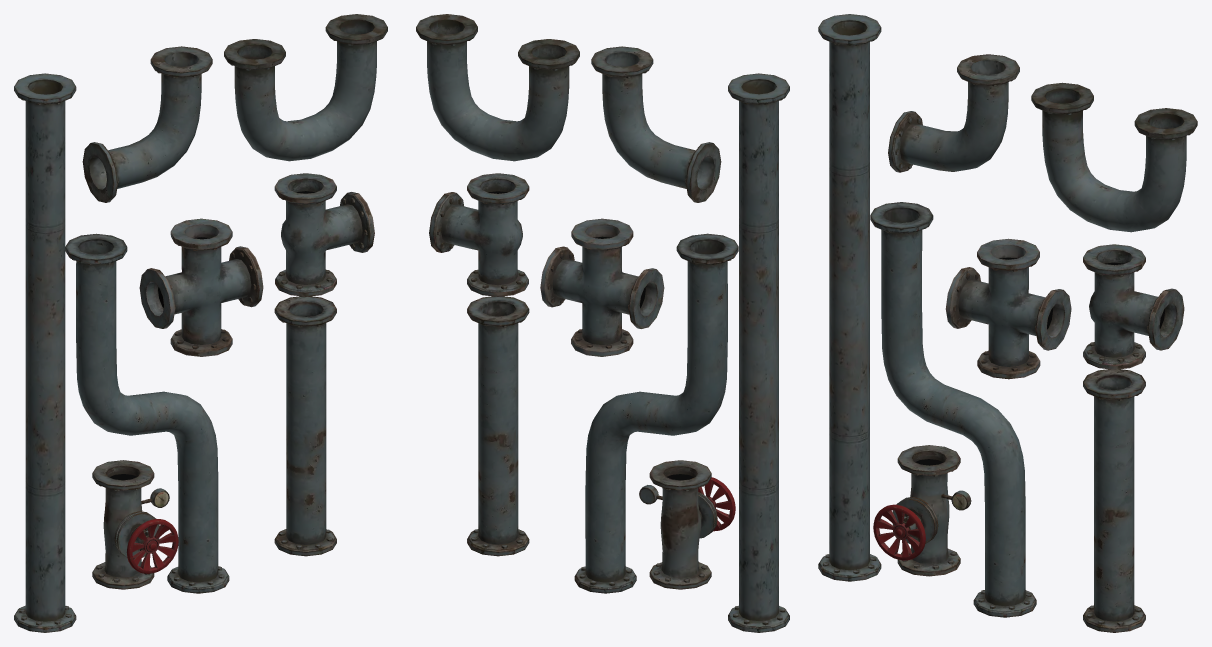
The model's file is modular_industrial_pipes_01.glb.
3 renders of one model, left to right at view 1: azimuth 30°, elevation 25°; view 2: azimuth 150°, elevation 25°; view 3: azimuth 330°, elevation 25°, orthographic.
Visible parts, largest first — view 1: modular_industrial_pipes_01_pipe02, modular_industrial_pipes_01_pipe03, modular_industrial_pipes_01_pipe05, modular_industrial_pipes_01_pipe01, modular_industrial_pipes_01_pipe07, modular_industrial_pipes_01_pipe04, modular_industrial_pipes_01_pipe06, modular_industrial_pipes_01_pipe08; view 2: modular_industrial_pipes_01_pipe02, modular_industrial_pipes_01_pipe03, modular_industrial_pipes_01_pipe05, modular_industrial_pipes_01_pipe01, modular_industrial_pipes_01_pipe07, modular_industrial_pipes_01_pipe04, modular_industrial_pipes_01_pipe06, modular_industrial_pipes_01_pipe08; view 3: modular_industrial_pipes_01_pipe02, modular_industrial_pipes_01_pipe03, modular_industrial_pipes_01_pipe05, modular_industrial_pipes_01_pipe01, modular_industrial_pipes_01_pipe07, modular_industrial_pipes_01_pipe06, modular_industrial_pipes_01_pipe04, modular_industrial_pipes_01_pipe08.
Boxes of the visible parts, box(x1,y1,x2,y2) form: modular_industrial_pipes_01_pipe02: box(14, 73, 76, 632); modular_industrial_pipes_01_pipe03: box(65, 233, 229, 593); modular_industrial_pipes_01_pipe05: box(224, 14, 387, 161); modular_industrial_pipes_01_pipe01: box(274, 296, 336, 556); modular_industrial_pipes_01_pipe07: box(139, 218, 263, 356); modular_industrial_pipes_01_pipe04: box(82, 46, 212, 202); modular_industrial_pipes_01_pipe06: box(274, 173, 374, 296); modular_industrial_pipes_01_pipe08: box(92, 460, 178, 589); modular_industrial_pipes_01_pipe02: box(728, 73, 789, 632); modular_industrial_pipes_01_pipe03: box(574, 233, 738, 593); modular_industrial_pipes_01_pipe05: box(416, 14, 579, 161); modular_industrial_pipes_01_pipe01: box(467, 296, 529, 556); modular_industrial_pipes_01_pipe07: box(540, 218, 664, 356); modular_industrial_pipes_01_pipe04: box(591, 46, 721, 202); modular_industrial_pipes_01_pipe06: box(429, 173, 529, 296); modular_industrial_pipes_01_pipe08: box(639, 460, 735, 589); modular_industrial_pipes_01_pipe02: box(818, 14, 881, 581); modular_industrial_pipes_01_pipe03: box(870, 202, 1036, 617); modular_industrial_pipes_01_pipe05: box(1031, 82, 1197, 232); modular_industrial_pipes_01_pipe01: box(1083, 369, 1145, 632); modular_industrial_pipes_01_pipe07: box(945, 238, 1071, 379); modular_industrial_pipes_01_pipe06: box(1083, 244, 1184, 369); modular_industrial_pipes_01_pipe04: box(888, 54, 1019, 172); modular_industrial_pipes_01_pipe08: box(873, 445, 971, 576).
Size of the model in its own units: 1.4 by 1.95 by 0.3076.
Materials: 2 (2 with a texture image).
